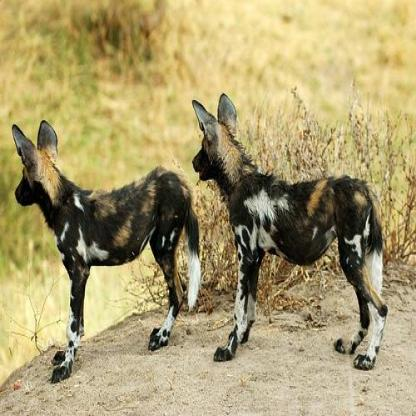African_hunting_dog: (189, 94, 388, 371), (11, 120, 201, 381)
